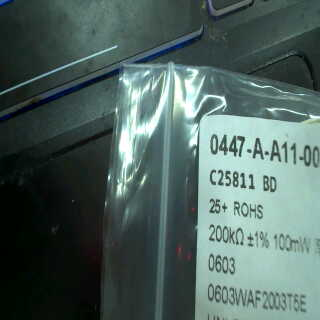200kR: (206, 222, 246, 246)
